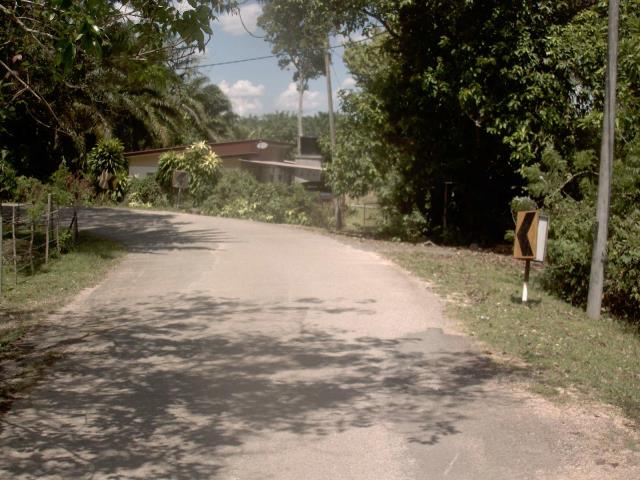traffic_sign: (504, 201, 551, 271)
